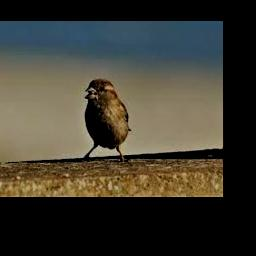Sparrow: (82, 78, 131, 161)
